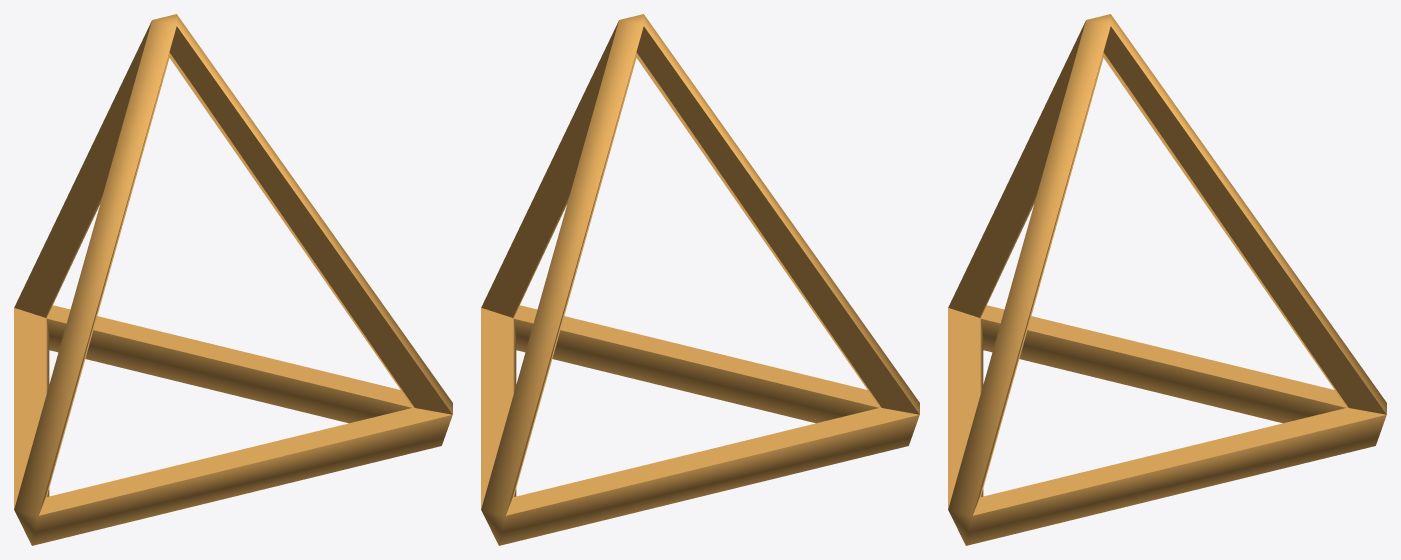
File: PyramidMesh_3P.fbx
3 renders of one model, left to right at view 1: azimuth 30°, elevation 25°; view 2: azimuth 150°, elevation 25°; view 3: azimuth 270°, elevation 25°, orthographic.
Parts seen in each view (by area): view 1: PyramidMesh_3P; view 2: PyramidMesh_3P; view 3: PyramidMesh_3P.
Boxes of the visible parts, x1,y1,x2,y2 form: PyramidMesh_3P: (14,14,452,545); PyramidMesh_3P: (481,14,919,545); PyramidMesh_3P: (948,14,1386,545).
Bounding box in the file's own units: 300 × 279 × 260.
